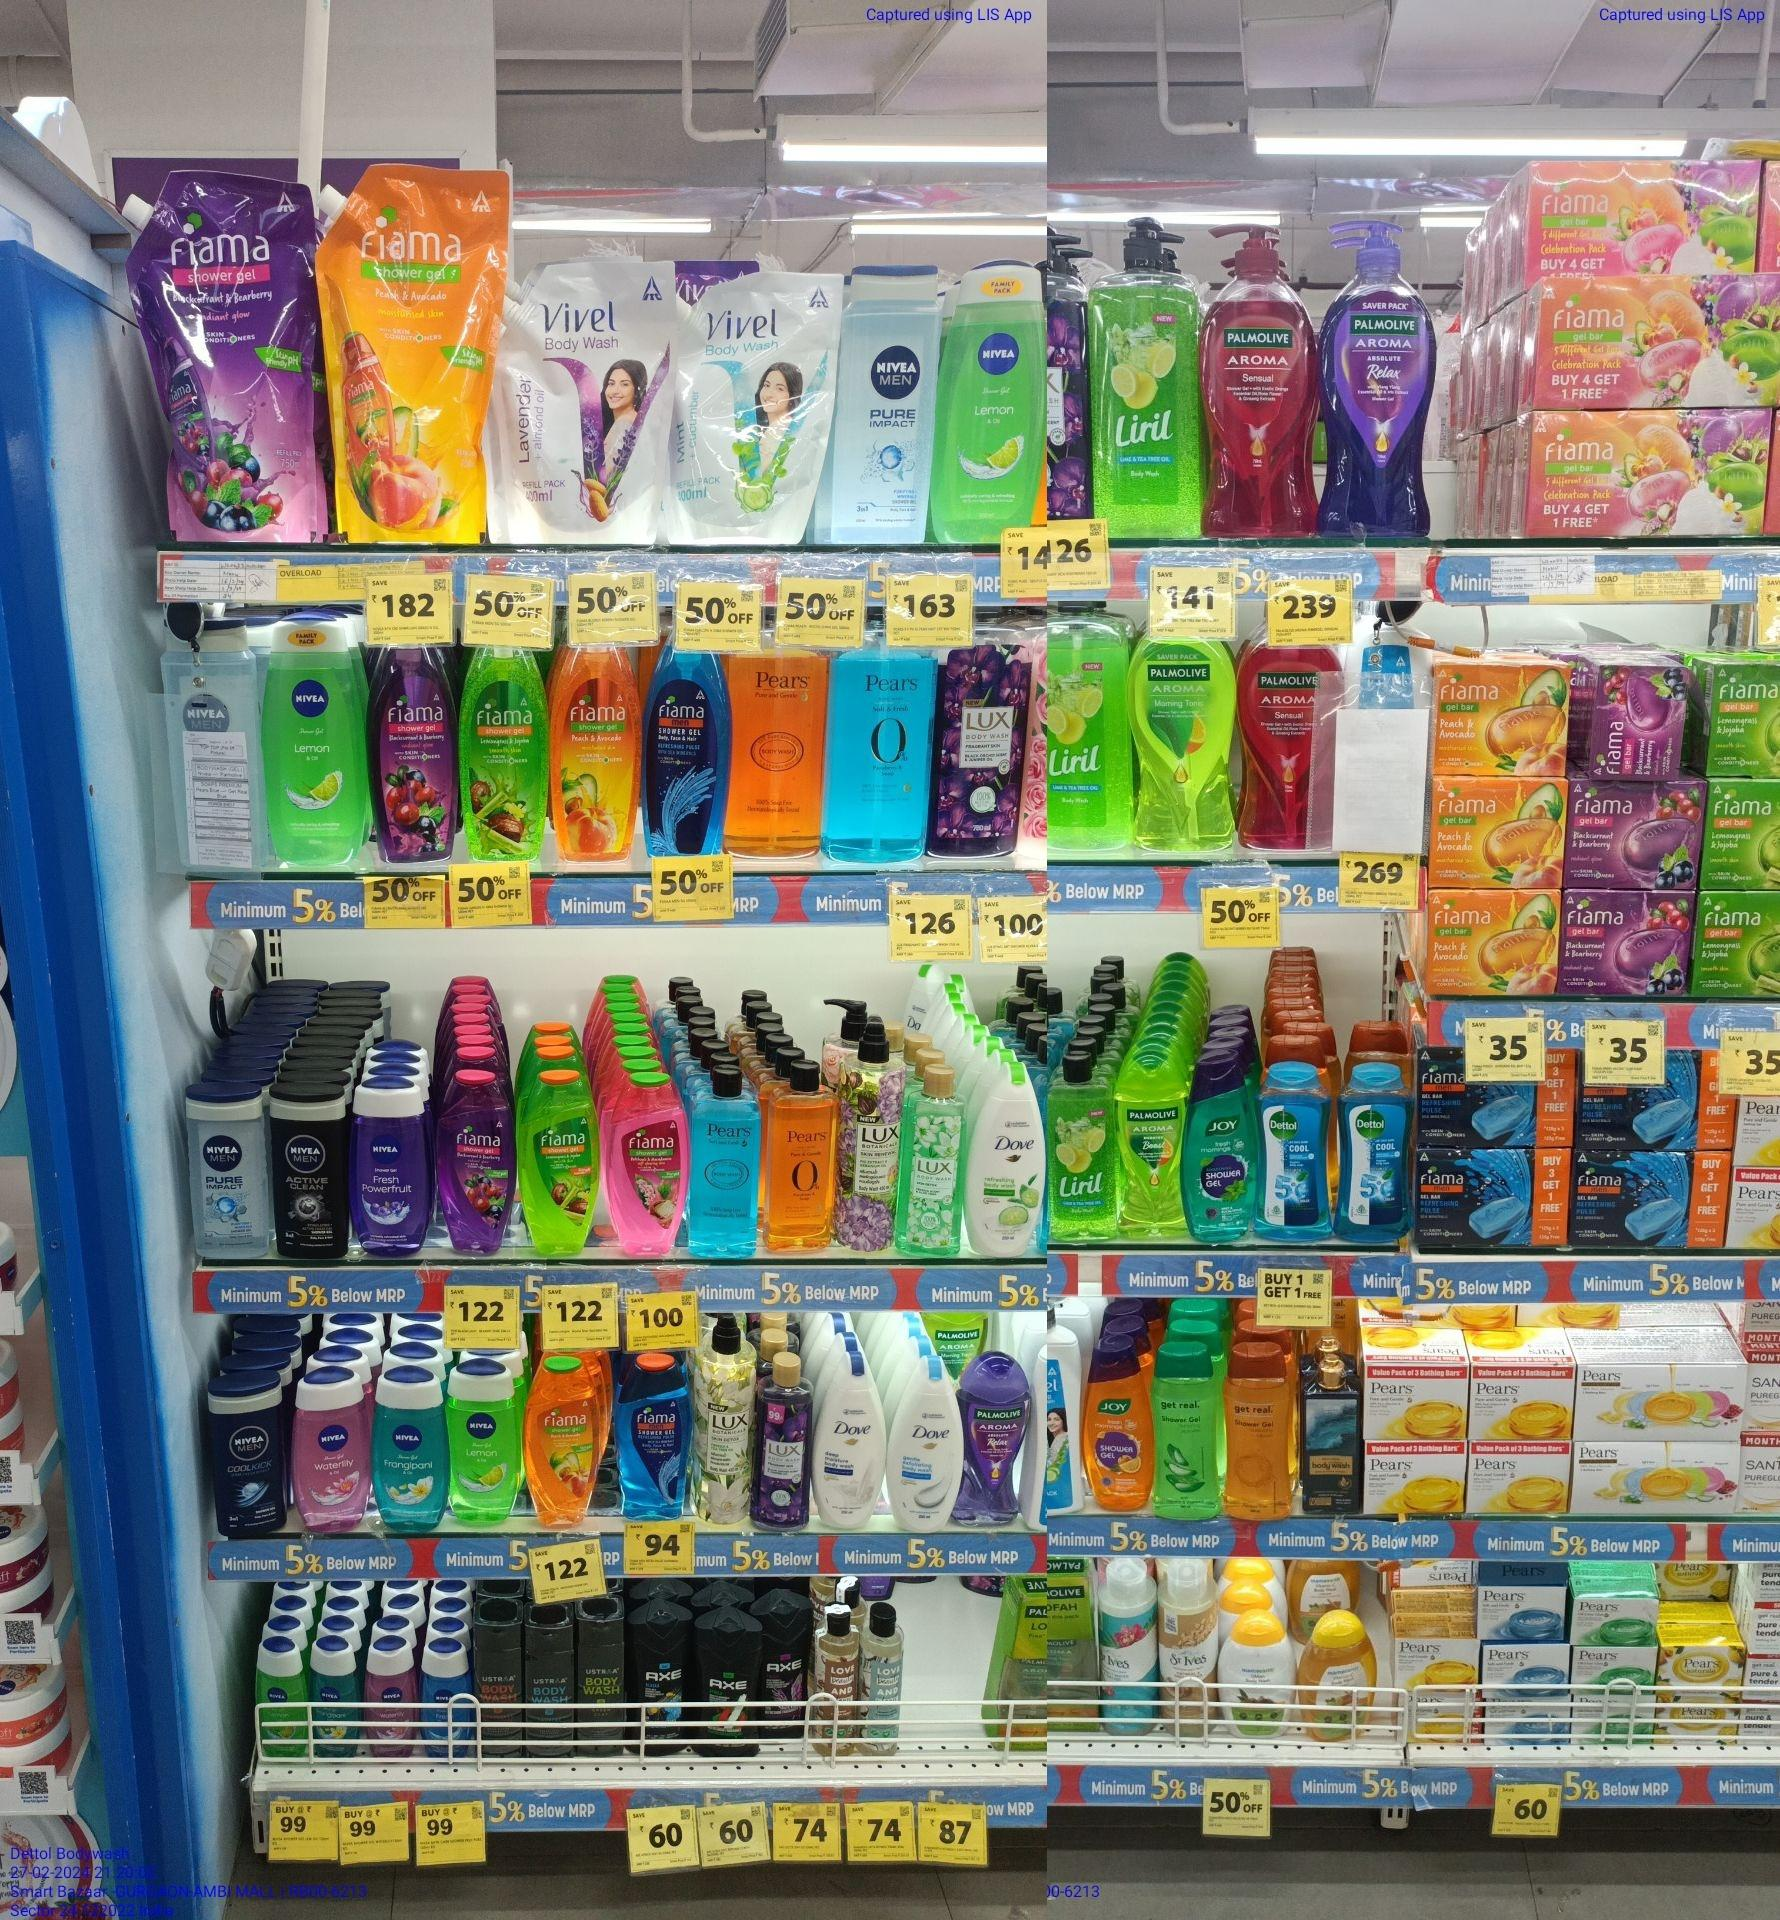Dettol_Bodywash_Cool: (1338, 1065, 1415, 1248), (1261, 1072, 1335, 1248)
Dove_Deep_Moisture_Body_Wash_250ML: (818, 1353, 887, 1535)
Dove_Gentle_Exfoliating_Body_Wash_250ML: (893, 1360, 960, 1535)
Dove_Refreshing_Body_Wash_250ML: (974, 1065, 1046, 1264)
Fiama_Shower_Gel_Lemongrass_and_Jojoba_250ML: (522, 1074, 599, 1259)
Fiama_Shower_Gel_Patchouli_and_Macadamia_250ML: (612, 1069, 684, 1258)
Fiama_Shower_Gel_Peach_and_Avocado_250ML: (524, 1360, 594, 1530)
Joy_Shower_Gel_Mandarin_and_Lemongrass_250ML: (1086, 1340, 1151, 1514)
Joy_Shower_Gel_Mint_and_Eucalyptus_250ML: (1186, 1062, 1258, 1246)
Liril_Lime_and_Tea_Tree_Oil_Body_Wash_250ML: (1049, 1052, 1112, 1244)
Lux_Black_Orchid_Scent_and_Juniper_Oil_Body_Wash_245ML: (758, 1361, 813, 1534)
Lux_Body_Wash_Skin_Detox_Freesia_Scent_and_Alove_Vera_245ML: (902, 1069, 962, 1259)
Nivea_Shower_Gel_Frangipani_and_Oil_250ML: (375, 1370, 447, 1530), (311, 1641, 360, 1763)
Nivea_Shower_Gel_Fresh_Powerfruit_250ML: (355, 1077, 430, 1259)
Nivea_Shower_Gel_Lemon_and_Oil_250ML: (947, 254, 1051, 550), (261, 612, 368, 871), (450, 1361, 517, 1532), (256, 1639, 309, 1761)
Nivea_Shower_Gel_Waterlily_and_Oil_250ML: (294, 1371, 368, 1540), (366, 1644, 420, 1763)
Palmolive_Aroma_Morning_Tonic_Shower_Gel_250ML: (1133, 642, 1240, 856), (1116, 1055, 1183, 1243)
Palmolive_Aroma_Relax_250ML: (965, 1355, 1026, 1530)
Pears_Pure_Glycerin_and_Mint_Extracts_Body_Wash_250ML: (693, 1067, 760, 1264)
